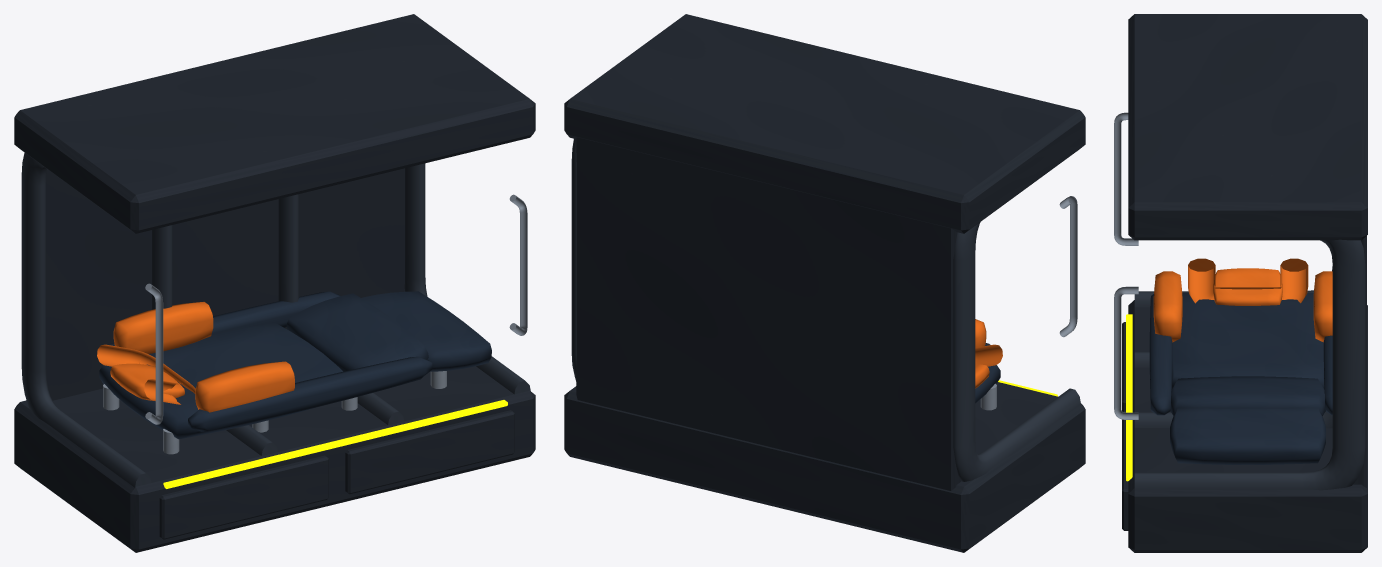
Rendered from bunk_r1_02.glb.
3 views of the same model, side by side, from view 1: azimuth 30°, elevation 25°; view 2: azimuth 150°, elevation 25°; view 3: azimuth 270°, elevation 25° (orthographic). The views are drawn at different scales.
Parts seen in each view (by area): view 1: ExpanseRack_ArmoredGunmetalBay, ExpanseRack_HighGFlightCouch, ExpanseRack_StructuralCChannelRibs, ExpanseRack_GForceCrashBolsters, ExpanseRack_GimbalShocksAndGrabRails, ExpanseRack_AmberCautionStrips; view 2: ExpanseRack_ArmoredGunmetalBay, ExpanseRack_StructuralCChannelRibs, ExpanseRack_GimbalShocksAndGrabRails, ExpanseRack_GForceCrashBolsters; view 3: ExpanseRack_ArmoredGunmetalBay, ExpanseRack_HighGFlightCouch, ExpanseRack_StructuralCChannelRibs, ExpanseRack_GForceCrashBolsters, ExpanseRack_GimbalShocksAndGrabRails, ExpanseRack_AmberCautionStrips.
Boxes of the visible parts, x1,y1,x2,y2 form: ExpanseRack_ArmoredGunmetalBay: (14,14,535,552); ExpanseRack_HighGFlightCouch: (99,291,491,439); ExpanseRack_StructuralCChannelRibs: (21,152,530,487); ExpanseRack_GForceCrashBolsters: (97,302,294,412); ExpanseRack_GimbalShocksAndGrabRails: (103,194,527,454); ExpanseRack_AmberCautionStrips: (163,400,507,488); ExpanseRack_ArmoredGunmetalBay: (564,14,1085,552); ExpanseRack_StructuralCChannelRibs: (571,139,1080,481); ExpanseRack_GimbalShocksAndGrabRails: (980,196,1077,410); ExpanseRack_GForceCrashBolsters: (975,319,1002,388); ExpanseRack_ArmoredGunmetalBay: (1122,14,1367,552); ExpanseRack_HighGFlightCouch: (1149,292,1332,464); ExpanseRack_StructuralCChannelRibs: (1134,239,1365,490); ExpanseRack_GForceCrashBolsters: (1153,258,1332,342); ExpanseRack_GimbalShocksAndGrabRails: (1114,112,1138,419); ExpanseRack_AmberCautionStrips: (1126,314,1132,481).
Size of the model in its own units: 2.18 by 1.84 by 1.21.
6 materials, 6 textured.
